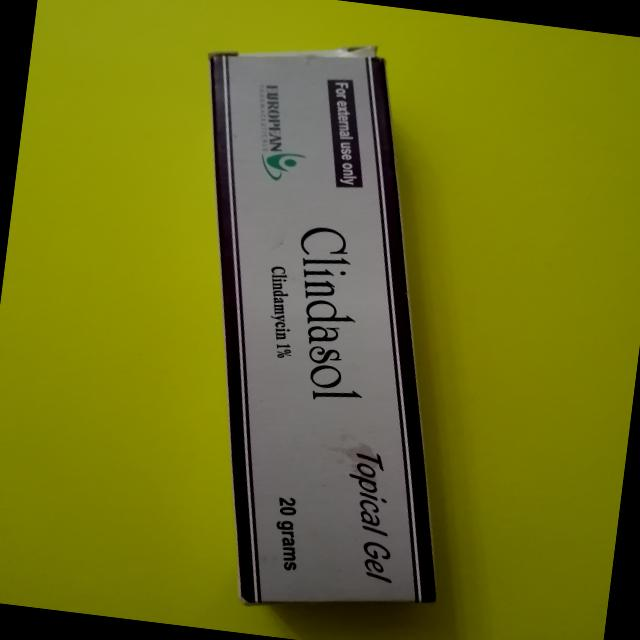medicine_packaging: (123, 17, 534, 635)
